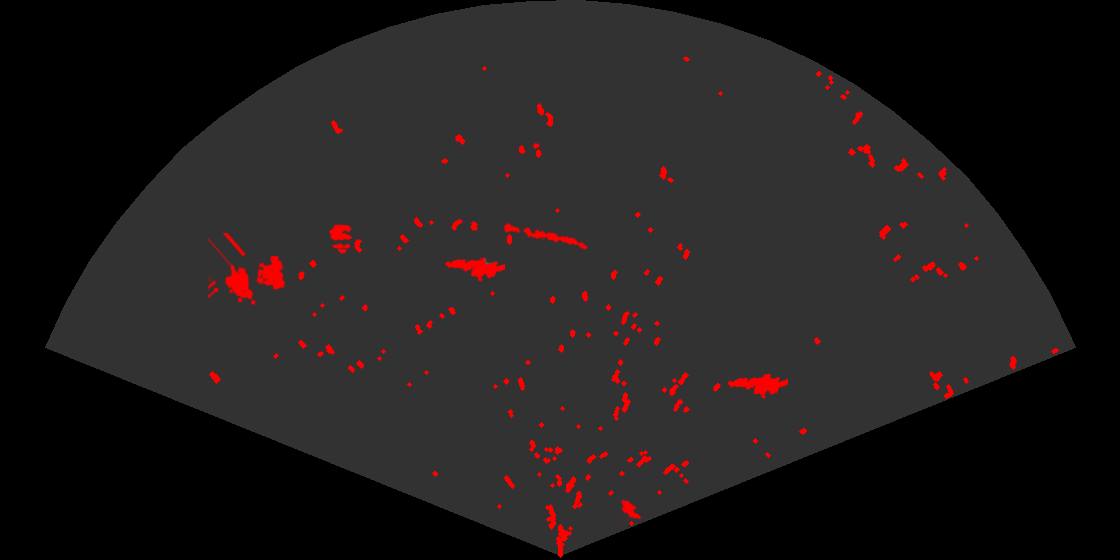AUV: (615, 498, 643, 523)
ball: (328, 223, 354, 250)
cage: (208, 233, 287, 307)
chain: (501, 221, 589, 251)
frogman: (726, 372, 788, 401), (443, 255, 505, 283)
